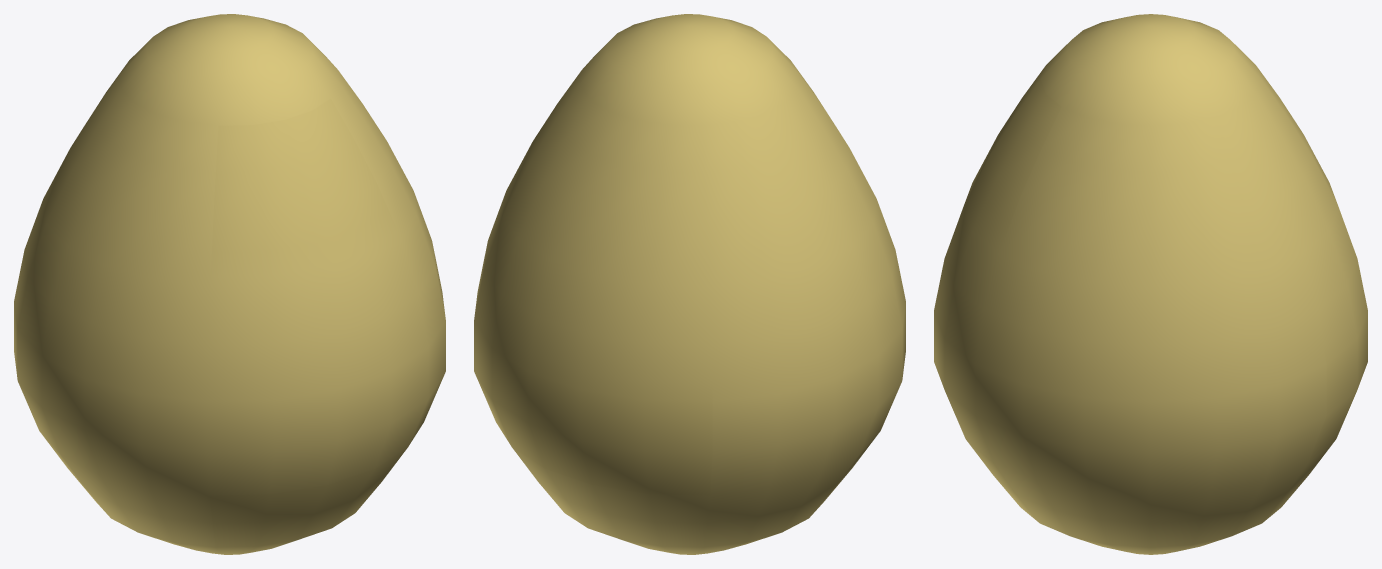
Rendered from DinoEgg.fbx.
3 renders of one model, left to right at view 1: azimuth 30°, elevation 25°; view 2: azimuth 150°, elevation 25°; view 3: azimuth 270°, elevation 25°, orthographic.
Parts seen in each view (by area): view 1: pCylinder1; view 2: pCylinder1; view 3: pCylinder1.
Boxes of the visible parts, x1,y1,x2,y2 form: pCylinder1: (14, 14, 445, 554); pCylinder1: (474, 14, 905, 554); pCylinder1: (934, 14, 1367, 554).
Size of the model in its own units: 51.38 by 67.46 by 51.38.
